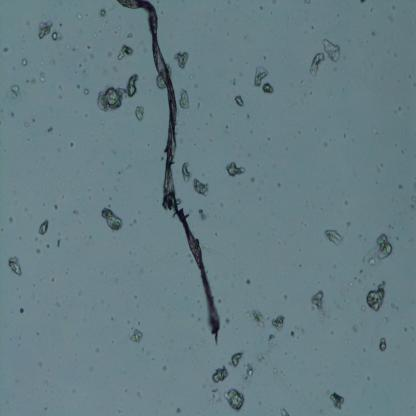Background material: (95, 74, 144, 109), (361, 278, 392, 316), (252, 64, 280, 95), (101, 205, 126, 234), (372, 233, 395, 264), (207, 380, 229, 406), (324, 36, 342, 66), (245, 306, 268, 329), (225, 387, 247, 411), (324, 226, 346, 248), (308, 52, 326, 77), (224, 161, 247, 180), (211, 363, 230, 386), (6, 254, 24, 278), (115, 43, 136, 62), (34, 18, 52, 40), (34, 216, 52, 237), (328, 390, 346, 411), (311, 288, 326, 313), (174, 48, 190, 70), (177, 87, 192, 110), (194, 175, 210, 196), (272, 313, 287, 333), (362, 246, 377, 266), (128, 328, 144, 345), (8, 79, 22, 98), (182, 162, 194, 183), (377, 336, 391, 354), (232, 92, 247, 108), (245, 363, 258, 381), (134, 104, 147, 122), (196, 208, 212, 222), (372, 161, 386, 176), (230, 352, 244, 366), (268, 332, 279, 347), (172, 404, 184, 415), (256, 348, 265, 362), (278, 408, 292, 416), (39, 71, 47, 85), (158, 361, 168, 372), (57, 234, 64, 249), (41, 240, 52, 249), (394, 103, 402, 115), (298, 75, 306, 86), (259, 50, 267, 61), (82, 86, 90, 97), (99, 8, 108, 17), (75, 11, 83, 21), (57, 84, 62, 100), (70, 207, 80, 215), (248, 174, 256, 184), (3, 44, 11, 54), (223, 314, 230, 325), (364, 371, 371, 382), (280, 292, 289, 300), (130, 218, 138, 227), (346, 216, 352, 228), (371, 25, 377, 37), (245, 276, 252, 286), (18, 305, 24, 316), (322, 140, 328, 151), (22, 58, 29, 67), (52, 201, 59, 210), (343, 197, 350, 206), (56, 30, 62, 40), (265, 133, 271, 143), (352, 322, 357, 334), (75, 81, 82, 89), (207, 112, 214, 120), (21, 121, 29, 128), (380, 315, 388, 322), (113, 62, 118, 73), (347, 278, 353, 287), (52, 32, 58, 41), (82, 68, 89, 75), (409, 203, 416, 210), (47, 126, 53, 134), (290, 330, 296, 338), (68, 140, 74, 148), (72, 46, 78, 53), (76, 62, 83, 68), (272, 367, 278, 374), (398, 183, 404, 190), (92, 30, 98, 37), (58, 19, 63, 27), (303, 0, 311, 5), (231, 77, 236, 85), (30, 78, 36, 84), (402, 326, 408, 332), (369, 6, 375, 12), (24, 78, 30, 84), (127, 31, 132, 38), (358, 0, 365, 5), (343, 131, 347, 139), (277, 181, 281, 189), (86, 43, 91, 49), (310, 23, 315, 29), (94, 346, 100, 351), (51, 276, 55, 283), (196, 297, 200, 304), (134, 293, 138, 300), (113, 30, 118, 35), (31, 117, 35, 123), (298, 262, 302, 268), (401, 149, 405, 155), (360, 270, 364, 276), (118, 170, 122, 176), (409, 73, 412, 80), (109, 197, 113, 202), (36, 331, 40, 336), (66, 44, 70, 49), (53, 58, 56, 64), (246, 114, 250, 118), (412, 196, 416, 200), (309, 92, 313, 96), (260, 6, 264, 10), (224, 125, 227, 130), (138, 322, 141, 326)
Cotton: (115, 0, 224, 344)
